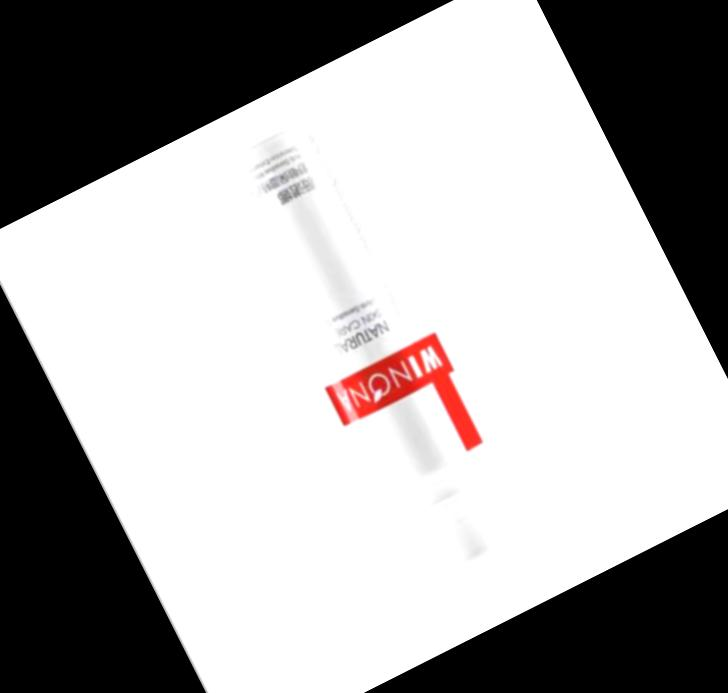cosmetic: (209, 106, 556, 622)
